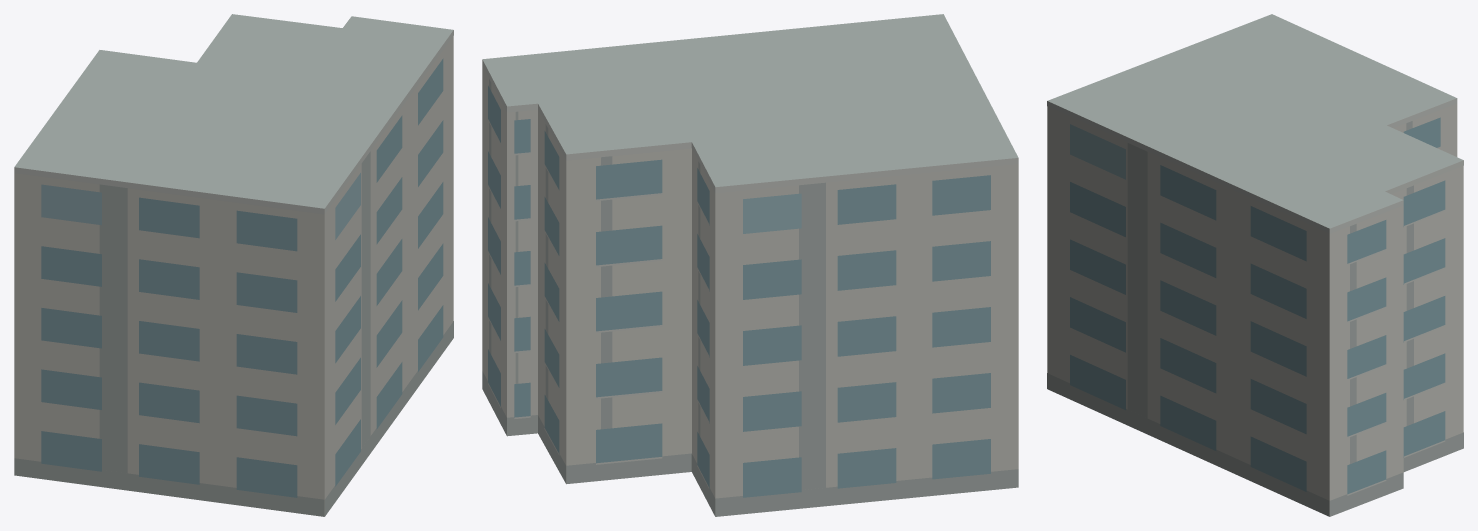
Rendered from survey-upis-32933597.glb.
3 renders of one model, left to right at view 1: azimuth 30°, elevation 25°; view 2: azimuth 150°, elevation 25°; view 3: azimuth 270°, elevation 25°, orthographic. The views are drawn at different scales.
Parts seen in each view (by area): view 1: survey-upis-32933597.tmp; view 2: survey-upis-32933597.tmp; view 3: survey-upis-32933597.tmp.
Part boxes in pixels (bbox=[...]): survey-upis-32933597.tmp: bbox=[14, 14, 453, 516]; survey-upis-32933597.tmp: bbox=[482, 14, 1018, 516]; survey-upis-32933597.tmp: bbox=[1047, 14, 1463, 516].
Bounding box in the file's own units: 20.78 × 13 × 17.03.
